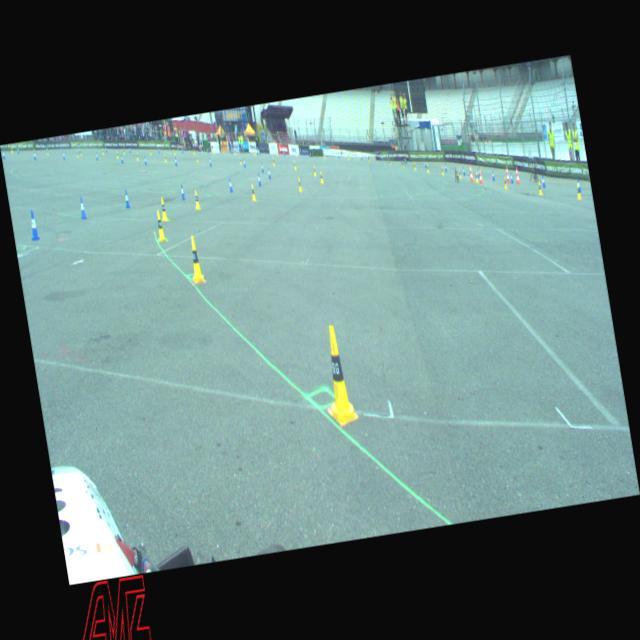blue_cone: (28, 210, 40, 240), (78, 197, 87, 219), (123, 189, 130, 208), (180, 184, 186, 200), (228, 178, 234, 193), (540, 177, 546, 188), (257, 174, 262, 186), (509, 172, 514, 184), (577, 179, 581, 192), (491, 170, 495, 180), (268, 168, 272, 178), (120, 154, 124, 163), (462, 167, 466, 176), (2, 151, 6, 160), (62, 152, 66, 160), (261, 162, 264, 172), (477, 168, 480, 178), (209, 157, 212, 166), (144, 156, 147, 165), (243, 158, 246, 167), (175, 157, 178, 166), (444, 164, 447, 172), (95, 152, 98, 160), (424, 160, 427, 168), (17, 147, 20, 154), (34, 152, 36, 160), (404, 156, 406, 164), (381, 154, 383, 162), (360, 153, 362, 160), (310, 151, 312, 158), (78, 148, 80, 154), (105, 147, 107, 153), (182, 148, 184, 154), (207, 148, 209, 154), (231, 148, 233, 154), (129, 148, 131, 153), (284, 151, 286, 156), (258, 150, 260, 155), (158, 148, 160, 152)
large_orange_cone: (477, 165, 483, 184), (468, 164, 474, 182), (514, 166, 520, 184), (504, 165, 510, 182)
yellow_cone: (316, 324, 359, 426), (187, 235, 206, 283), (154, 210, 167, 242), (158, 197, 168, 220), (193, 190, 200, 210), (250, 184, 256, 202), (576, 183, 582, 200), (296, 178, 302, 192), (536, 181, 542, 195), (502, 176, 508, 188), (319, 170, 323, 183), (458, 168, 462, 179), (312, 165, 316, 176), (474, 171, 478, 182), (32, 148, 36, 156), (322, 151, 326, 158), (441, 166, 444, 175), (272, 157, 275, 166), (164, 154, 167, 163), (426, 164, 429, 173), (136, 152, 139, 160), (239, 156, 242, 164), (46, 148, 49, 156), (76, 150, 79, 158), (149, 148, 152, 156), (195, 155, 198, 162), (116, 151, 119, 158), (102, 148, 105, 155), (173, 148, 176, 155), (388, 158, 391, 165), (294, 160, 296, 170), (10, 146, 13, 152), (212, 148, 215, 154), (253, 149, 256, 155), (295, 150, 298, 156), (402, 160, 404, 168), (414, 162, 416, 170), (233, 150, 236, 155), (122, 148, 124, 155), (80, 149, 82, 156), (348, 153, 350, 160), (193, 149, 195, 155), (276, 150, 278, 156), (368, 156, 370, 162)
